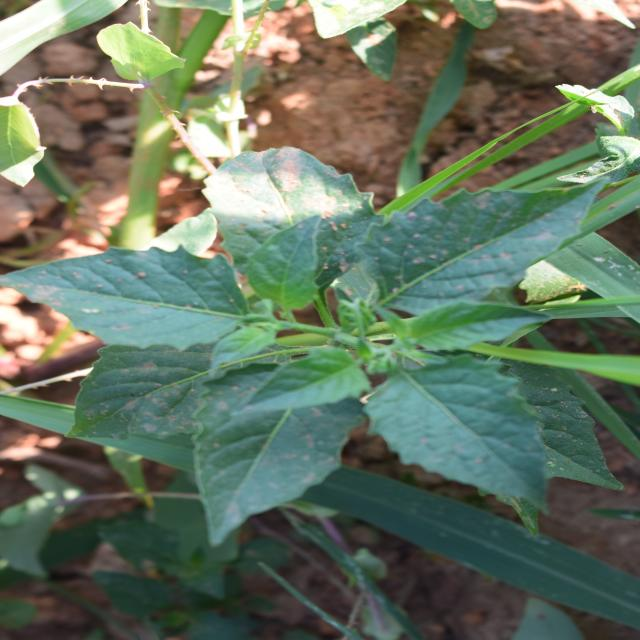Black_nightshade: (166, 46, 471, 582)
